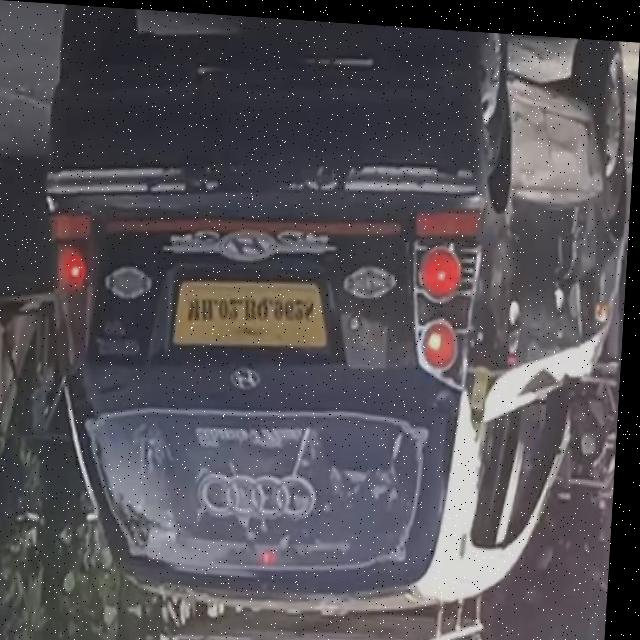plate: (177, 266, 336, 350)
